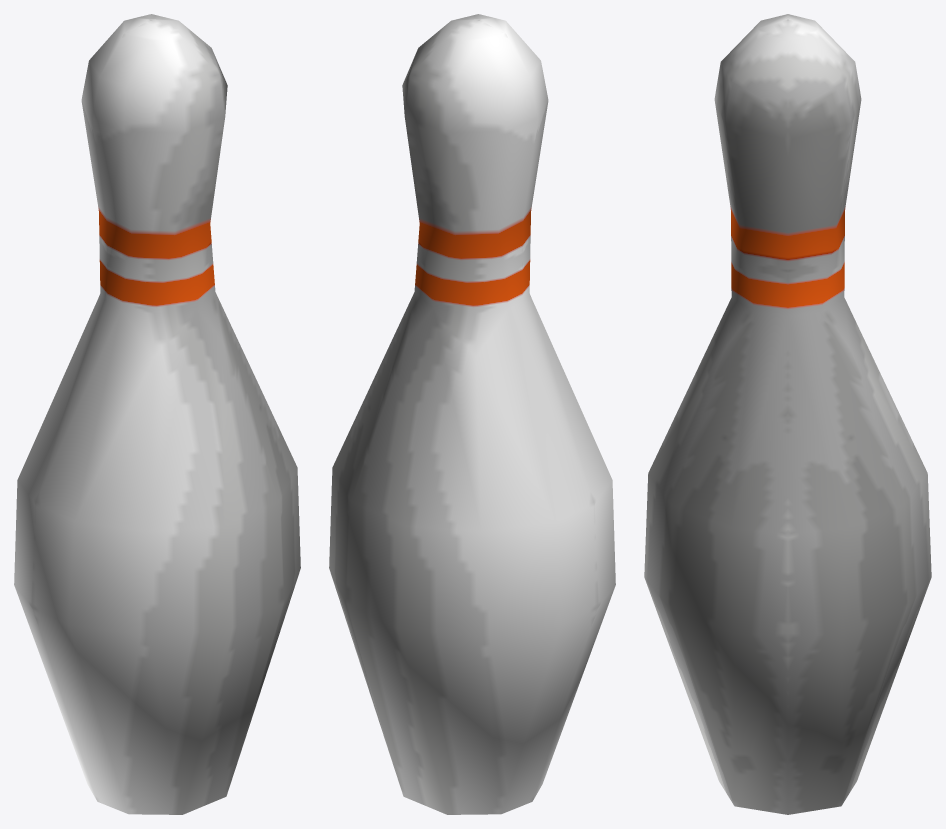
File: bownling_pin.fbx
The picture shows the model from 3 angles, left to right: view 1: azimuth 30°, elevation 25°; view 2: azimuth 150°, elevation 25°; view 3: azimuth 270°, elevation 25°; orthographic projection.
Parts seen in each view (by area): view 1: bowling_pin; view 2: bowling_pin; view 3: bowling_pin.
Boxes of the visible parts, x1=… form: bowling_pin: x1=14, y1=14, x2=300, y2=814; bowling_pin: x1=329, y1=14, x2=615, y2=814; bowling_pin: x1=644, y1=14, x2=931, y2=814.
Size of the model in its own units: 54.78 by 161 by 54.78.
